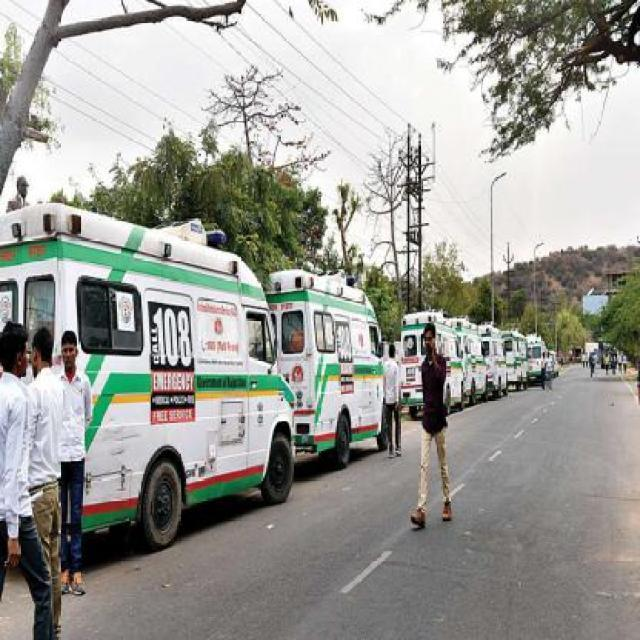Ambulance: (0, 189, 563, 577), (0, 355, 638, 638), (0, 198, 300, 560), (262, 266, 391, 471), (394, 307, 558, 418), (404, 320, 458, 532)
